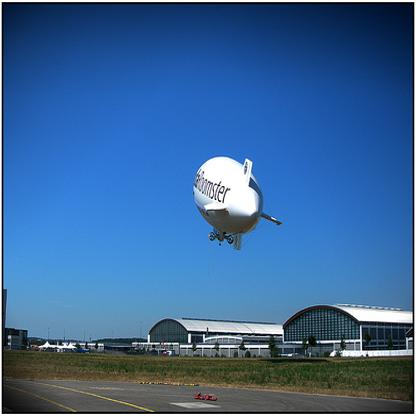Airship: (191, 153, 288, 259)
